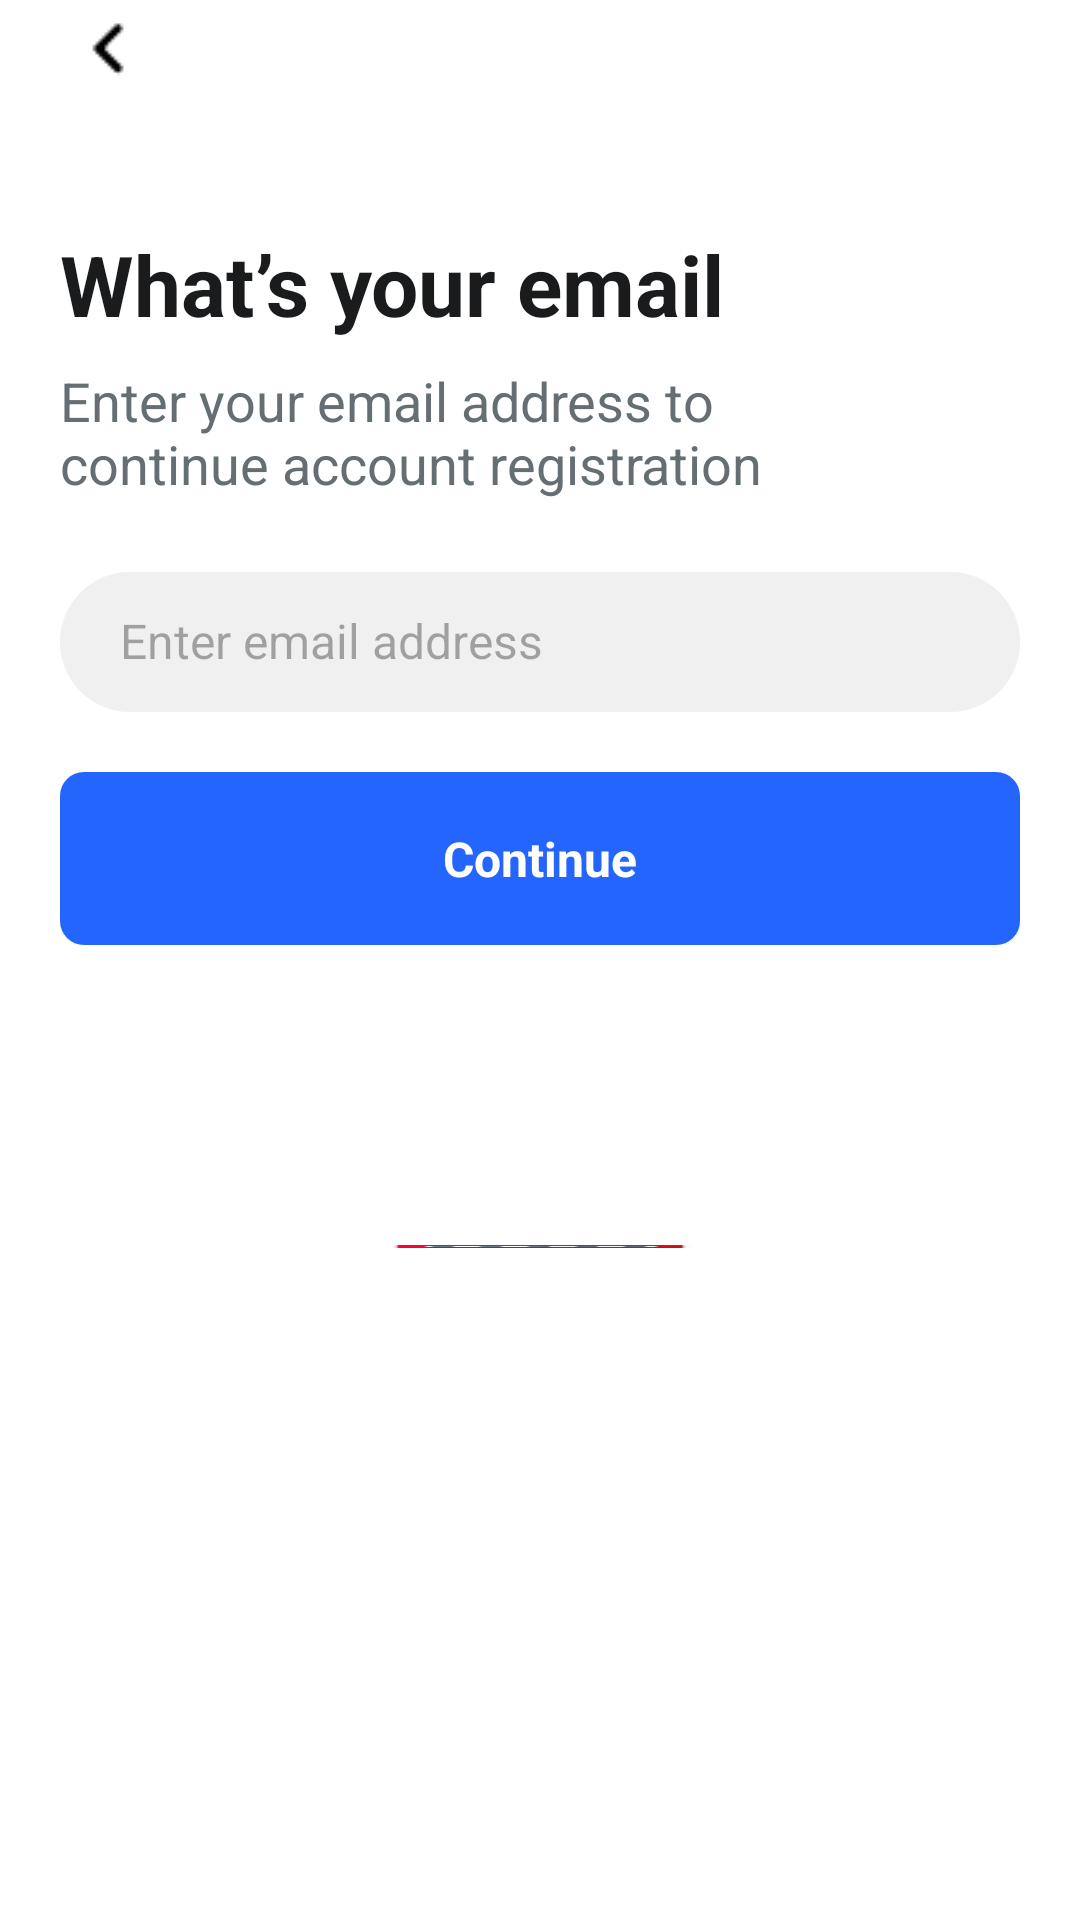

Icon click points for this 1080x1920 phone screenshot, format (x,y):
back: (108,48)
